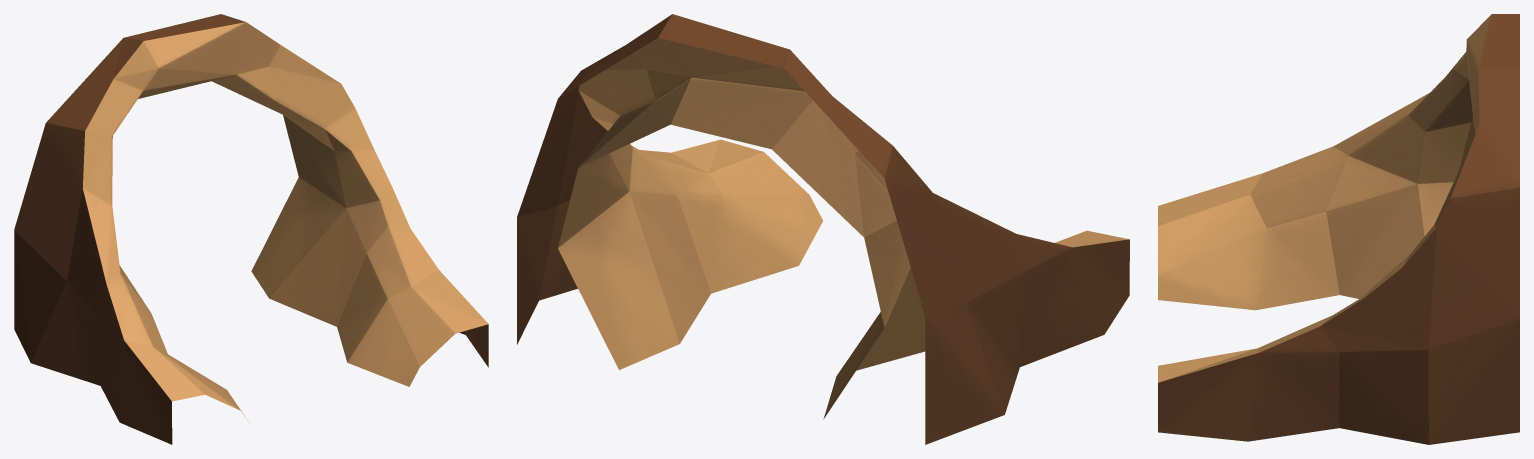
Rendered from TroncPerce_TrouA.FBX.
3 renders of one model, left to right at view 1: azimuth 30°, elevation 25°; view 2: azimuth 150°, elevation 25°; view 3: azimuth 270°, elevation 25°, orthographic. The views are drawn at different scales.
Visible parts, largest first — view 1: TroncPerce_TrouA; view 2: TroncPerce_TrouA; view 3: TroncPerce_TrouA.
Boxes of the visible parts, x1,y1,x2,y2 form: TroncPerce_TrouA: [14, 14, 488, 444]; TroncPerce_TrouA: [517, 14, 1129, 444]; TroncPerce_TrouA: [1158, 14, 1519, 444].
Bounding box in the file's own units: 2.28 × 1.62 × 1.73.
